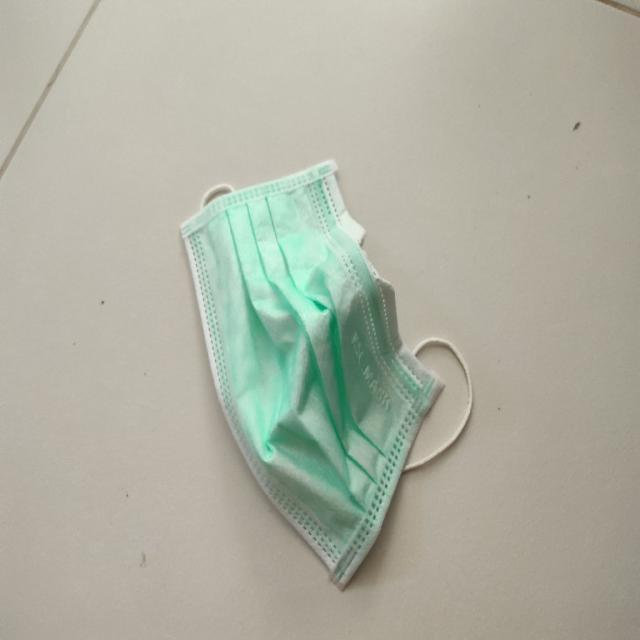face mask: (177, 150, 475, 586)
